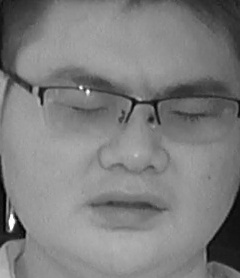blink: (66, 98, 106, 119), (170, 105, 209, 124)
glass: (38, 85, 135, 138), (153, 93, 238, 143)
mouth: (88, 189, 164, 230)
